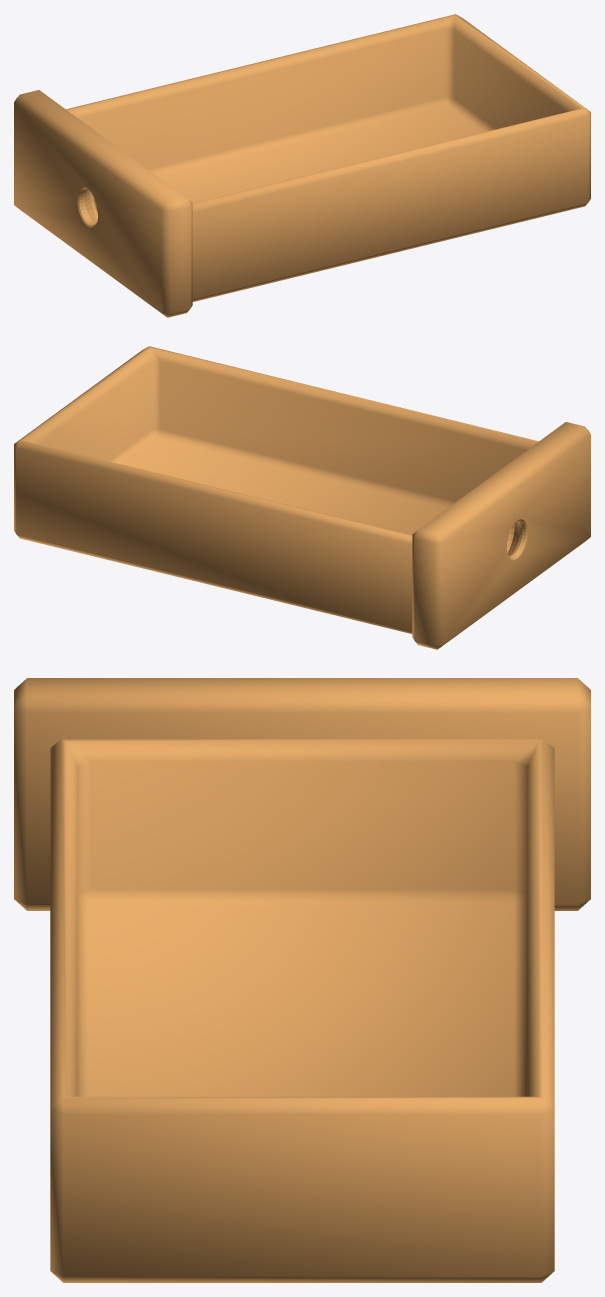
Rendered from toronto-desk-drawer-mid.fbx.
The picture shows the model from 3 angles, top to bottom: view 1: azimuth 30°, elevation 25°; view 2: azimuth 150°, elevation 25°; view 3: azimuth 270°, elevation 25°; orthographic projection. The views are drawn at different scales.
Visible parts, largest first — view 1: toronto-desk-drawer.008; view 2: toronto-desk-drawer.008; view 3: toronto-desk-drawer.008.
Boxes of the visible parts, x1,y1,x2,y2 form: toronto-desk-drawer.008: [14, 14, 590, 317]; toronto-desk-drawer.008: [14, 346, 590, 649]; toronto-desk-drawer.008: [14, 678, 590, 1282].
Bounding box in the file's own units: 434 × 109 × 264.
